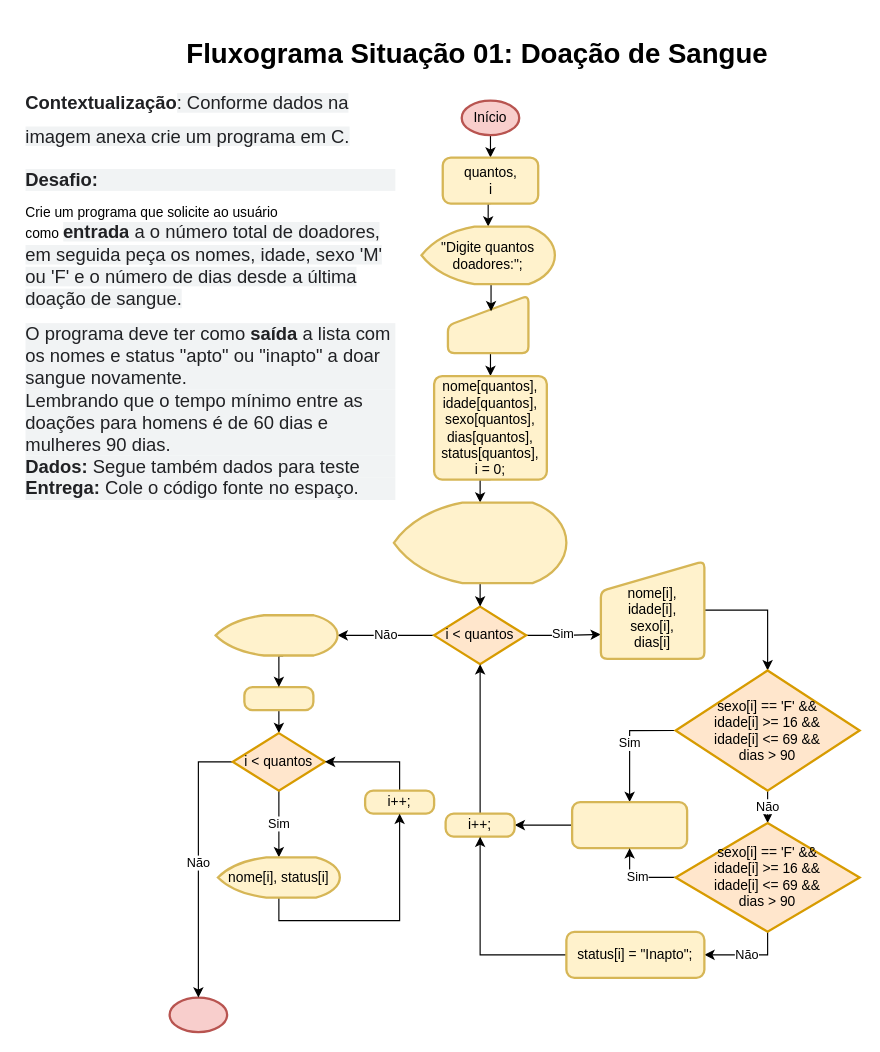
This 880x1052 diagram has some shape labels left out. The shapes that lost their labels are listed below. From the top down, each one's box as (x1, y1, x2, y2) in pixels, then its label:
(446, 294, 529, 354): quantos;
(392, 501, 567, 584): "Digite nome, idade, sexo 'M' ou 'F', Dias desde a última doação:";
(214, 614, 338, 656): "Nome Status";
(243, 685, 314, 711): i = 0;
(570, 800, 688, 849): status[i] = "Apto";
(168, 996, 228, 1033): Fim
